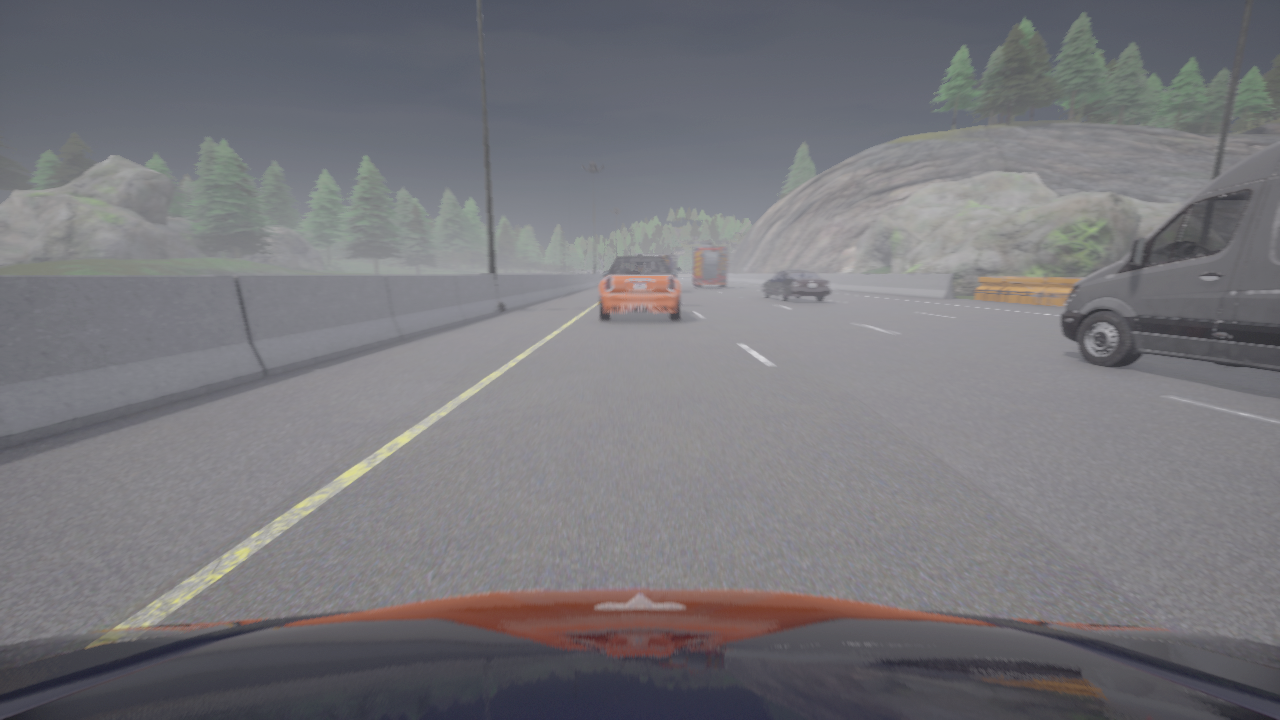cyclist: (0, 588, 1279, 719), (1060, 142, 1279, 372), (599, 254, 680, 320), (760, 269, 831, 301), (693, 241, 730, 287), (635, 253, 679, 277)
